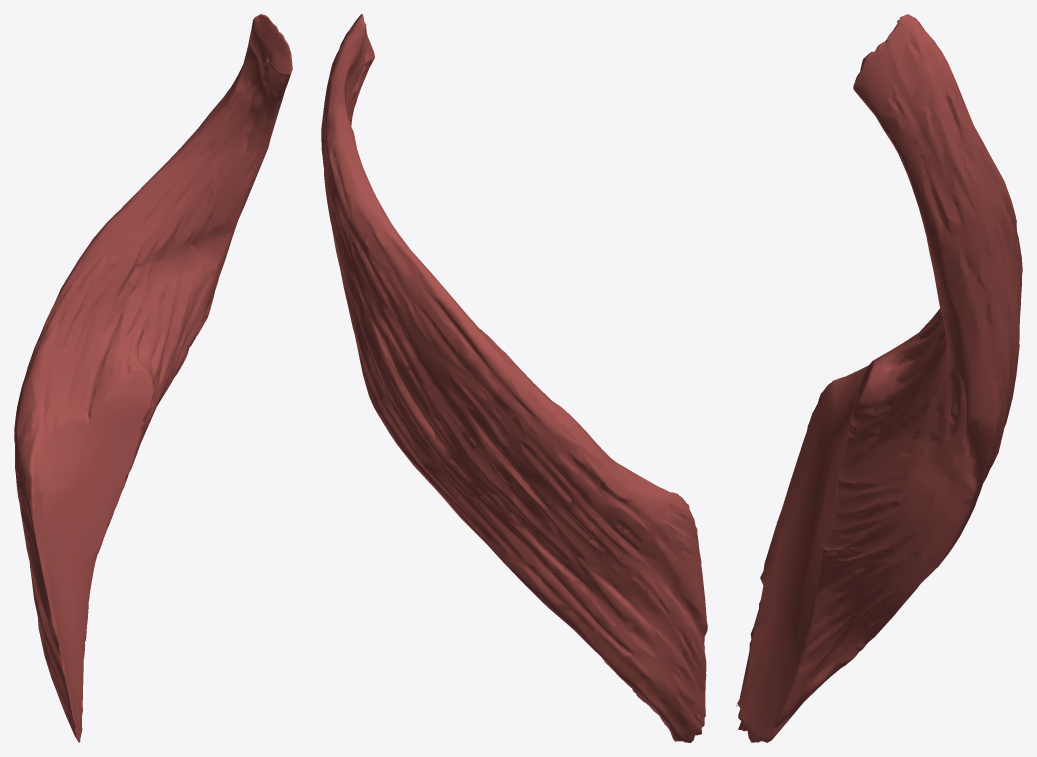
Rendered from FMA22592.glb.
The picture shows the model from 3 angles, left to right: view 1: azimuth 30°, elevation 25°; view 2: azimuth 150°, elevation 25°; view 3: azimuth 270°, elevation 25°; orthographic projection. The views are drawn at different scales.
Visible parts, largest first — view 1: FMA22592; view 2: FMA22592; view 3: FMA22592.
Boxes of the visible parts, x1,y1,x2,y2 form: FMA22592: [14, 14, 292, 742]; FMA22592: [321, 14, 707, 742]; FMA22592: [736, 14, 1022, 742].
Size of the model in its own units: 0.0574 by 0.1209 by 0.0352.
